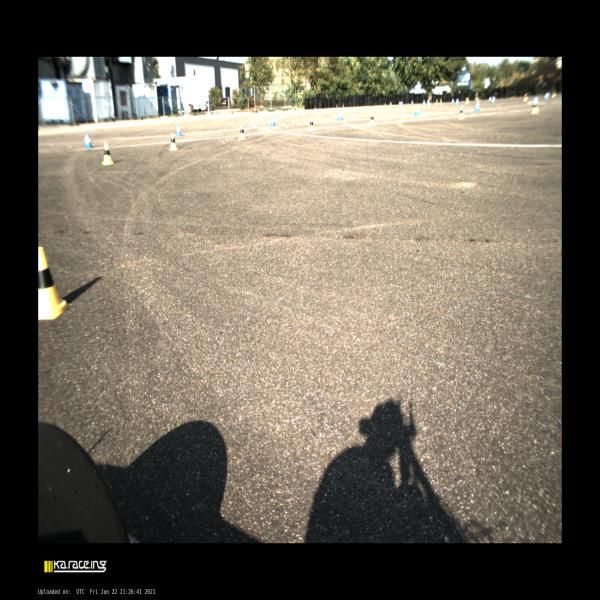blue_cone: (84, 133, 93, 147), (176, 123, 181, 136), (474, 101, 480, 111), (270, 116, 275, 126), (338, 110, 342, 120), (414, 105, 418, 115), (389, 102, 392, 107), (451, 99, 454, 104), (411, 100, 413, 106), (423, 100, 425, 106), (456, 99, 458, 105), (492, 98, 494, 104), (545, 94, 547, 100), (399, 101, 401, 106), (401, 101, 403, 106), (427, 100, 429, 105)
yellow_cone: (38, 247, 66, 319), (102, 142, 114, 164), (169, 132, 177, 150), (238, 124, 246, 139), (457, 106, 464, 120), (531, 101, 538, 114), (308, 118, 314, 132), (370, 113, 376, 126), (465, 98, 469, 105), (523, 95, 526, 101), (436, 99, 438, 105), (440, 99, 442, 105)
